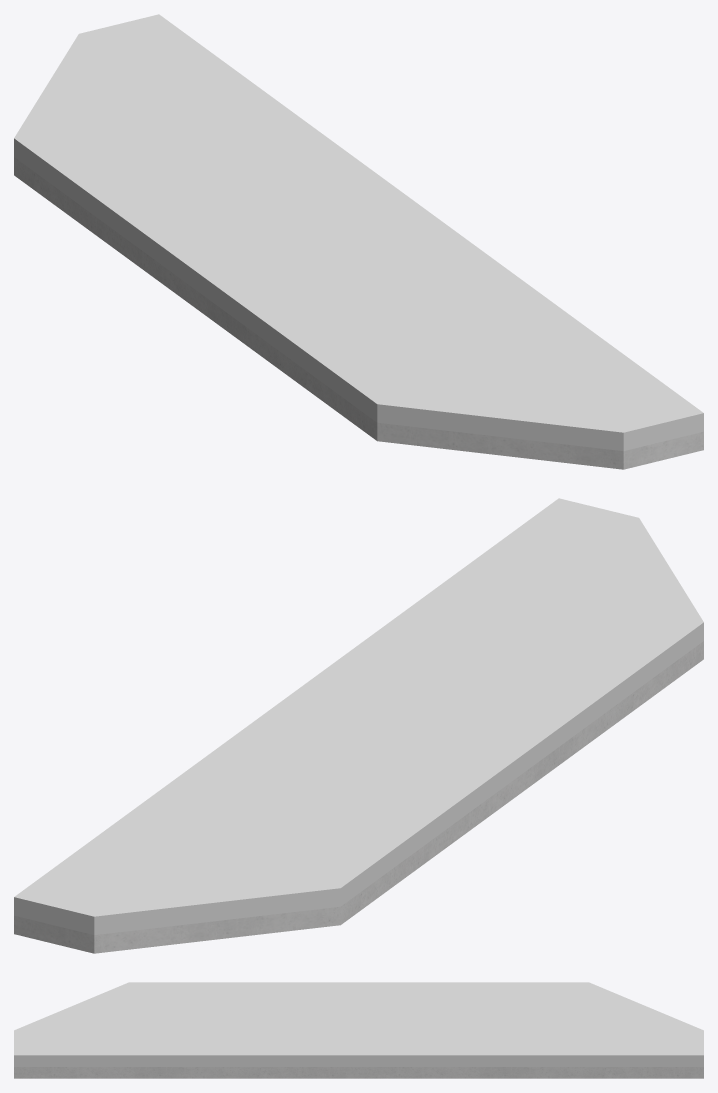
File: MB_Visor_01.fbx
3 renders of one model, top to bottom at view 1: azimuth 30°, elevation 25°; view 2: azimuth 150°, elevation 25°; view 3: azimuth 270°, elevation 25°, orthographic. The views are drawn at different scales.
Parts seen in each view (by area): view 1: MB_Visor_01; view 2: MB_Visor_01; view 3: MB_Visor_01.
Boxes of the visible parts, bbox=[...] form: MB_Visor_01: bbox=[14, 14, 703, 469]; MB_Visor_01: bbox=[14, 498, 703, 953]; MB_Visor_01: bbox=[14, 982, 703, 1078].
Size of the model in its own units: 200 by 30 by 800.
